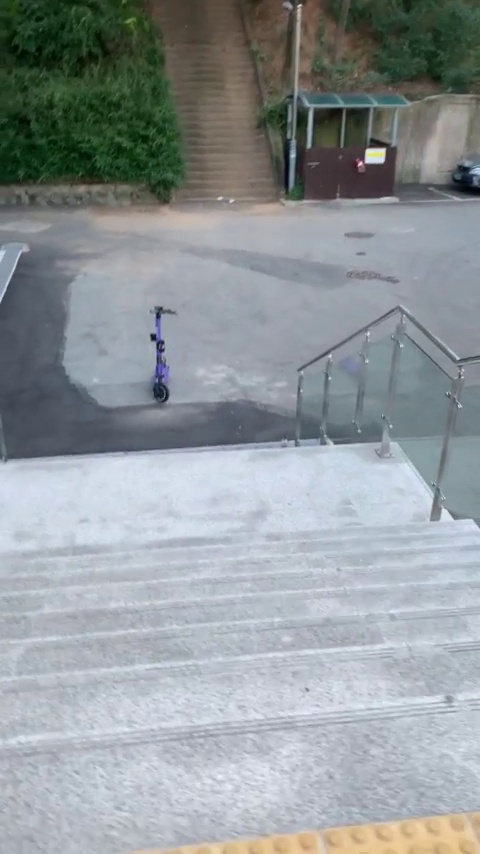beam: (140, 301, 190, 407)
